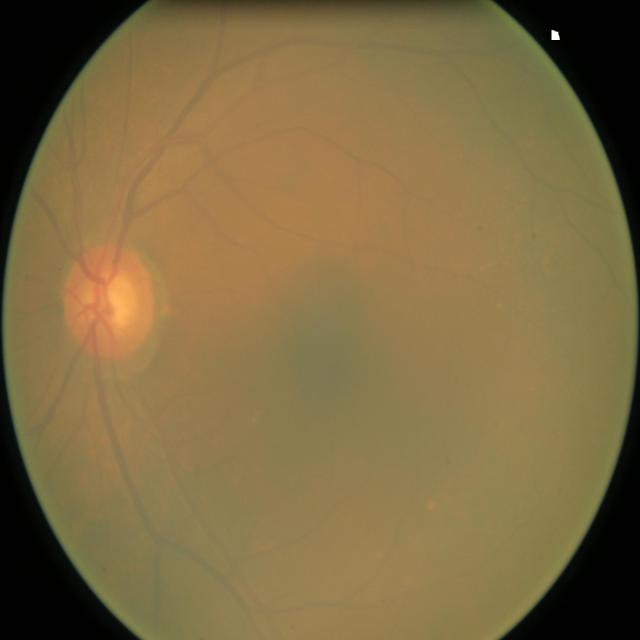OC: (83, 268, 138, 330)
OD: (61, 242, 155, 357)
